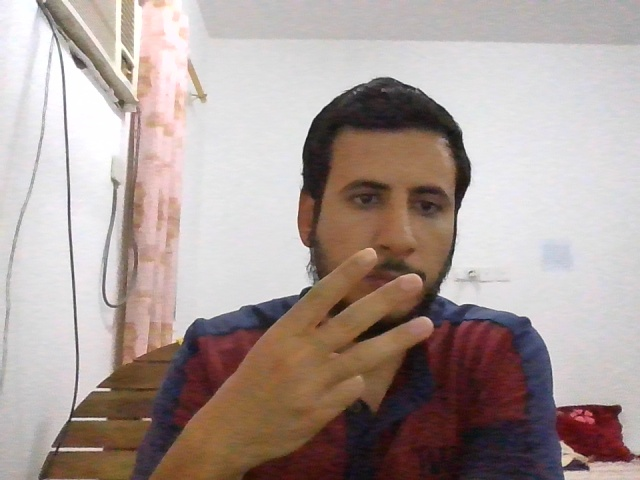Three: (211, 247, 434, 465)
